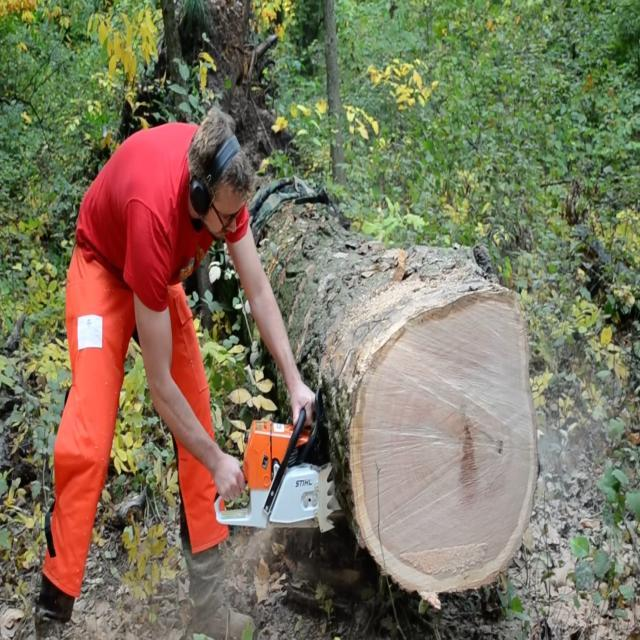Chainsaw: (208, 406, 360, 554)
